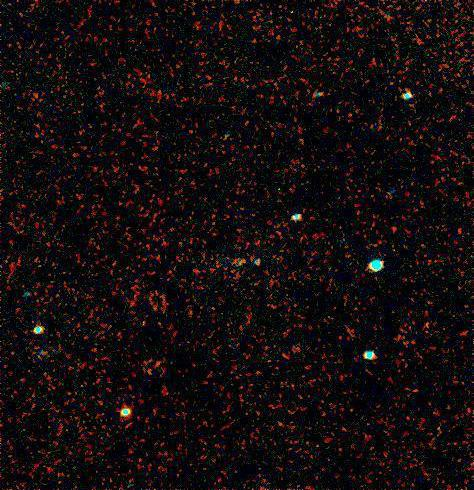star: (225, 245, 255, 275)
